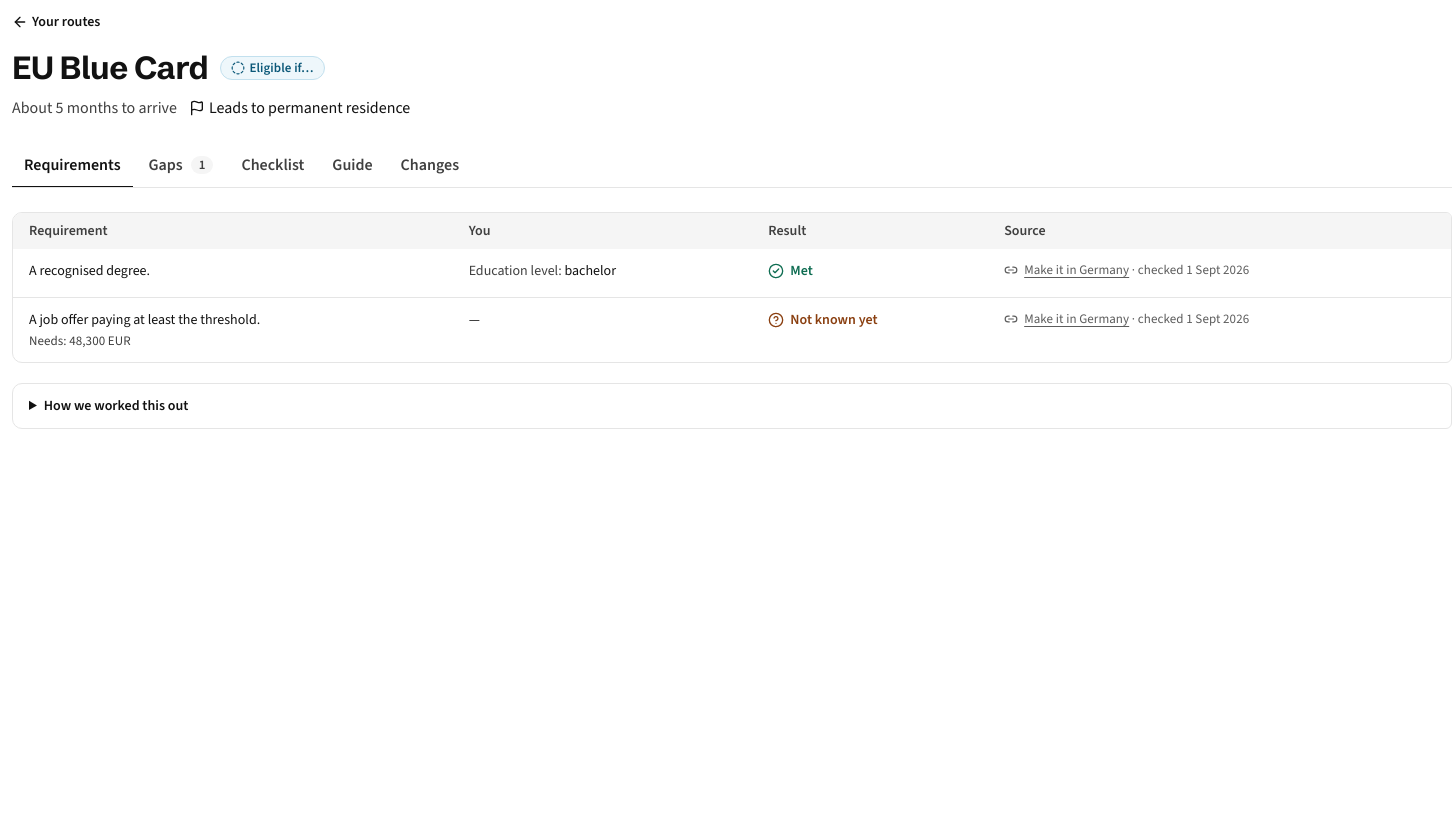
Scenario: RouteView › asks the guide and shows the answer with the quotes it rests on
Click the tab "Guide": (352, 166) 320,144 -> 385,188
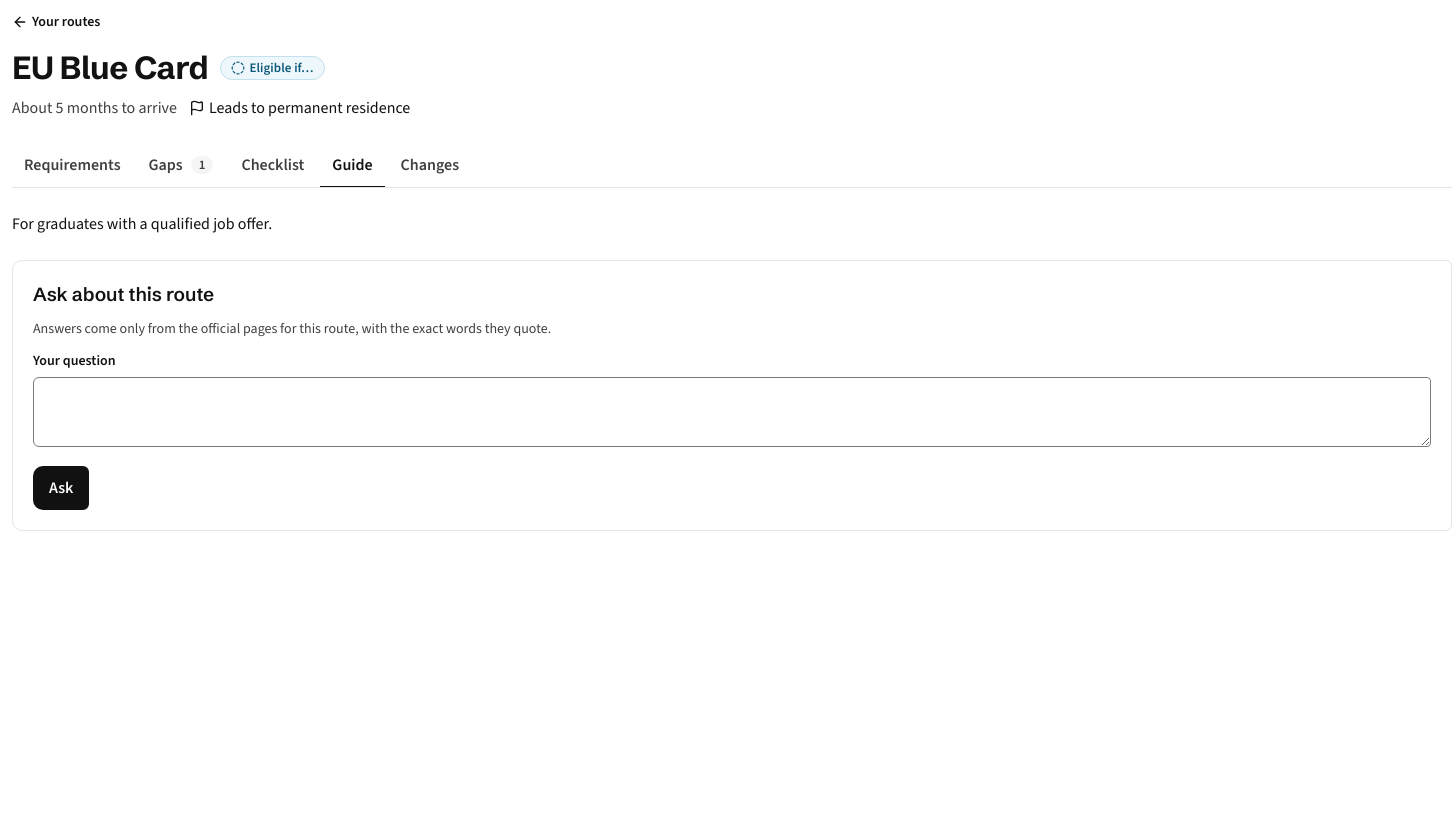
In the text box labelled "Your question": (732, 412) 33,377 -> 1431,447, type "Can my spouse work on this visa?"
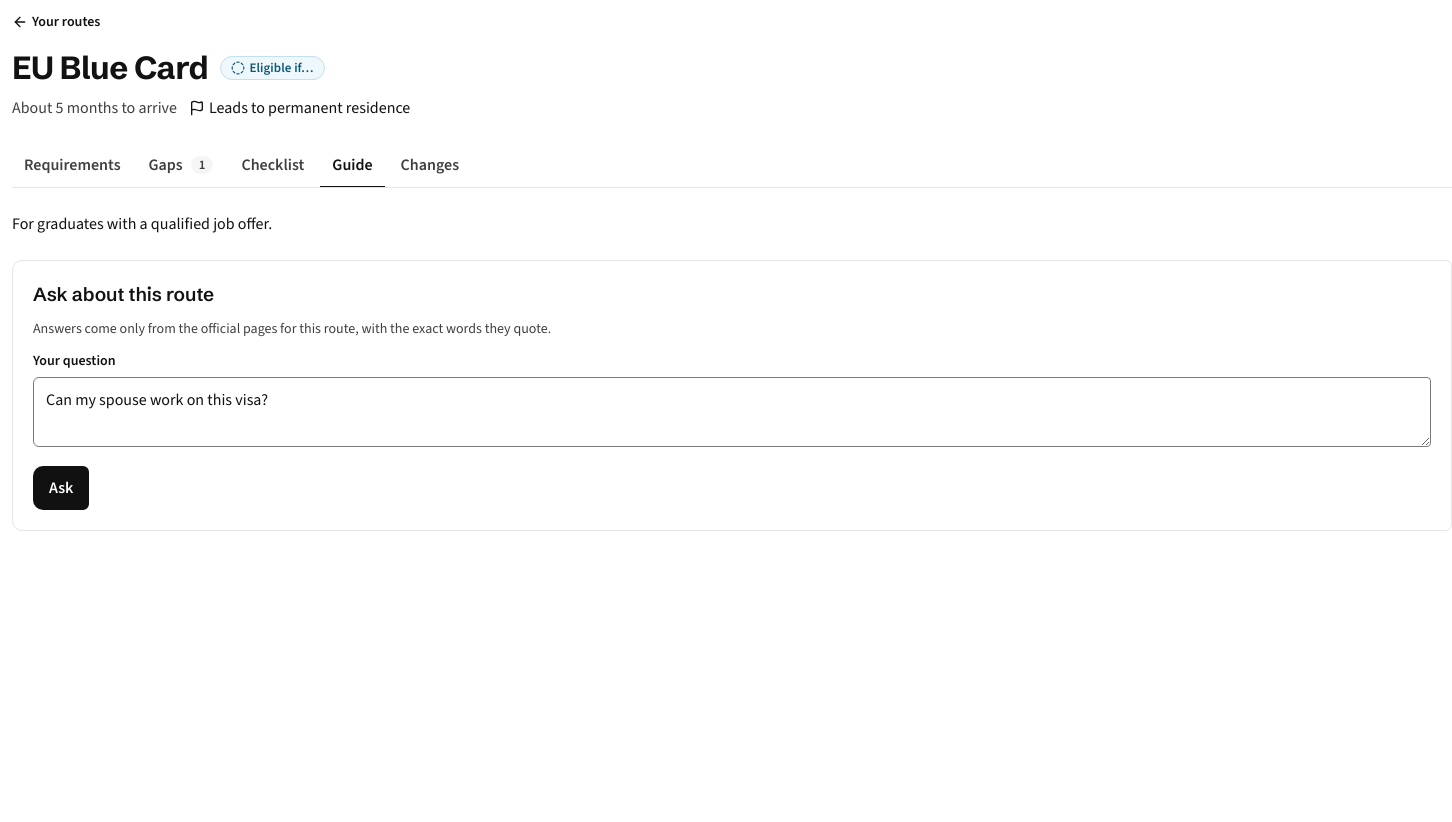
Click the button "Ask": (61, 488) 33,466 -> 90,510
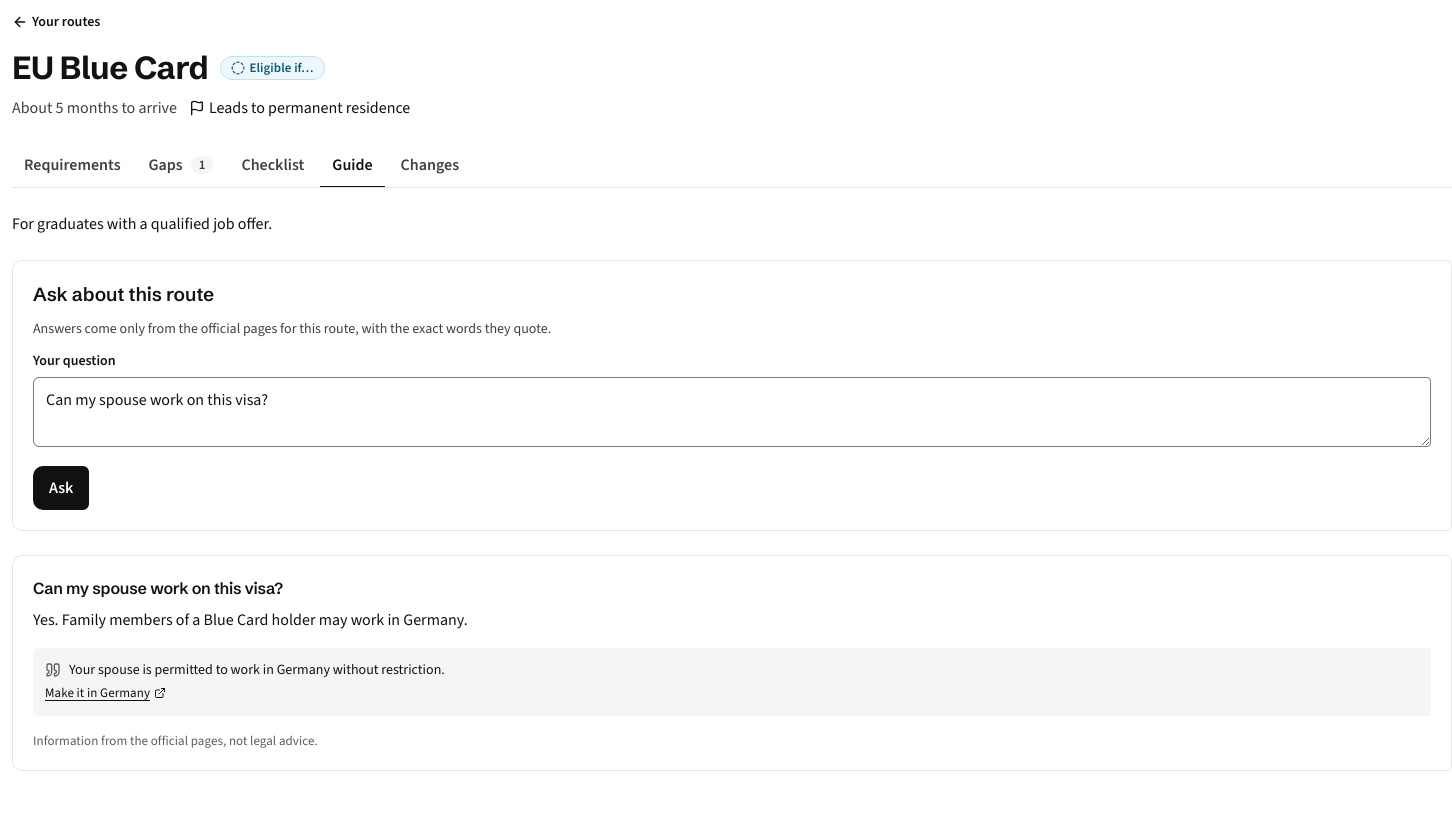
Expected: the text "Yes. Family members of a Blue Card holder may work in Germany." is shown, 33,609 -> 468,630
Expected: the text "Your spouse is permitted to work in Germany without restriction." is shown, 45,660 -> 445,679
